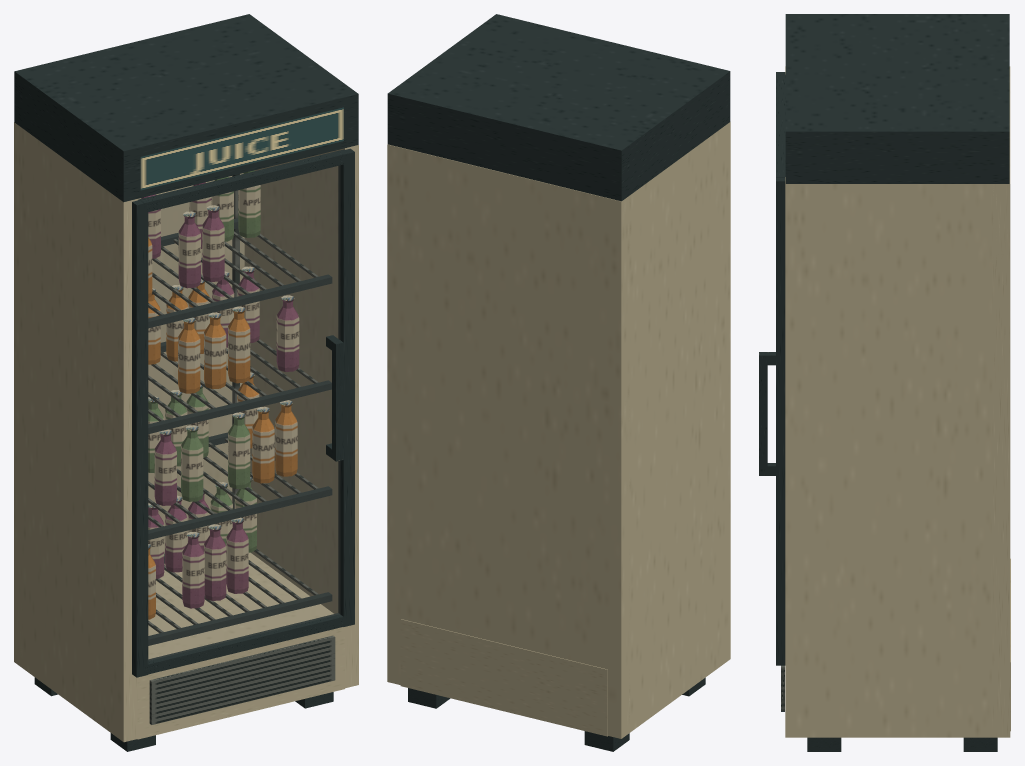
The model's file is JuiceCooler.fbx.
3 renders of one model, left to right at view 1: azimuth 30°, elevation 25°; view 2: azimuth 150°, elevation 25°; view 3: azimuth 270°, elevation 25°, orthographic. The views are drawn at different scales.
Visible parts, largest first — view 1: JuiceCooler_Body, JuiceCooler_Glass; view 2: JuiceCooler_Body; view 3: JuiceCooler_Body.
Boxes of the visible parts, box(x1,y1,x2,y2) form: JuiceCooler_Body: box(14, 14, 358, 751); JuiceCooler_Glass: box(148, 166, 340, 660); JuiceCooler_Body: box(387, 14, 730, 751); JuiceCooler_Body: box(759, 14, 1010, 751).
Size of the model in its own units: 82 by 204 by 74.2.
